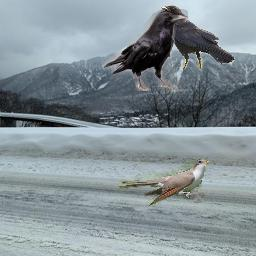Crow: (102, 9, 188, 91), (160, 5, 235, 70)
Cuckoo: (118, 159, 209, 206)
